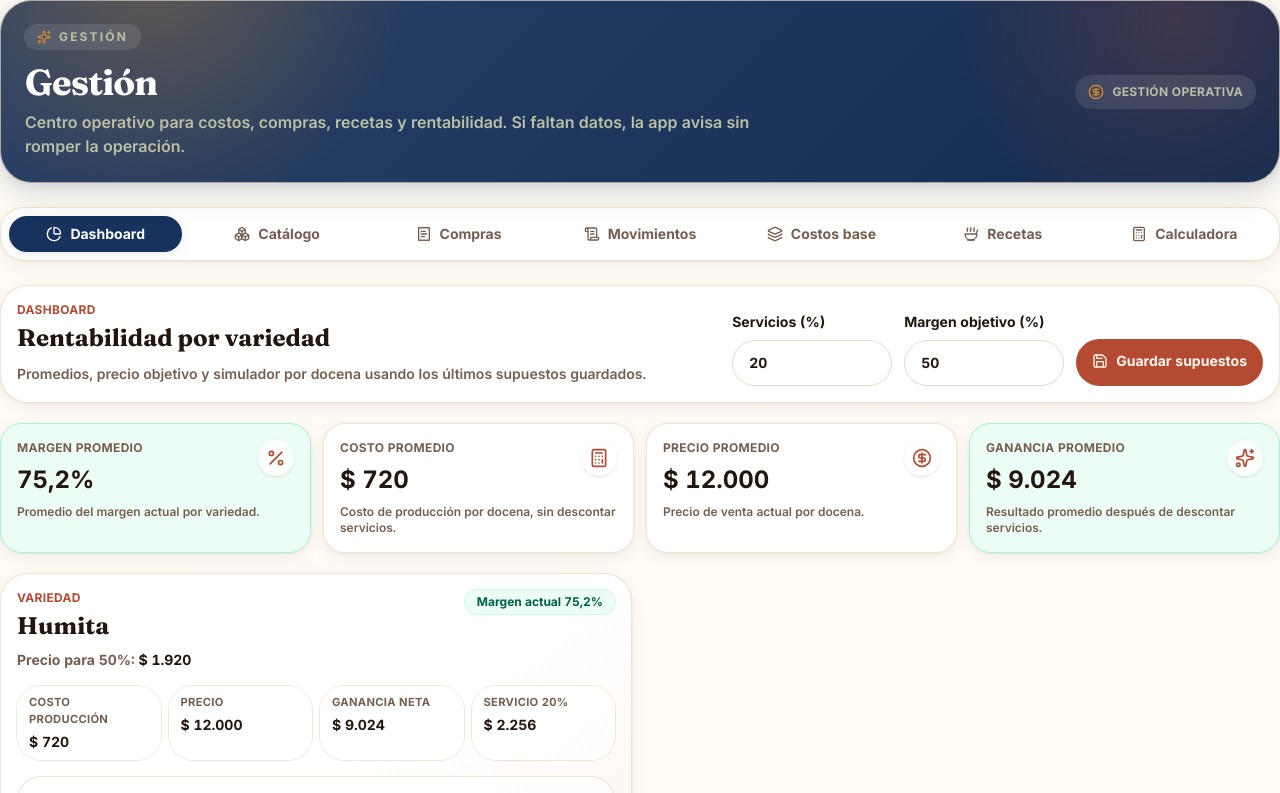
Scenario: FinancePage › renders the finance workspace route without the legacy stock tab
The width and height of the screenshot is (1280, 793).
Expected: the heading "Gestión" is shown, [25,60,157,104]
Expected: the tab "Compras" is shown, [372,216,545,252]
What coordinates should you click on to do the following:
click the tab "Catálogo"
I would click on:
 (277, 234)
Its box is [190,216,364,252].
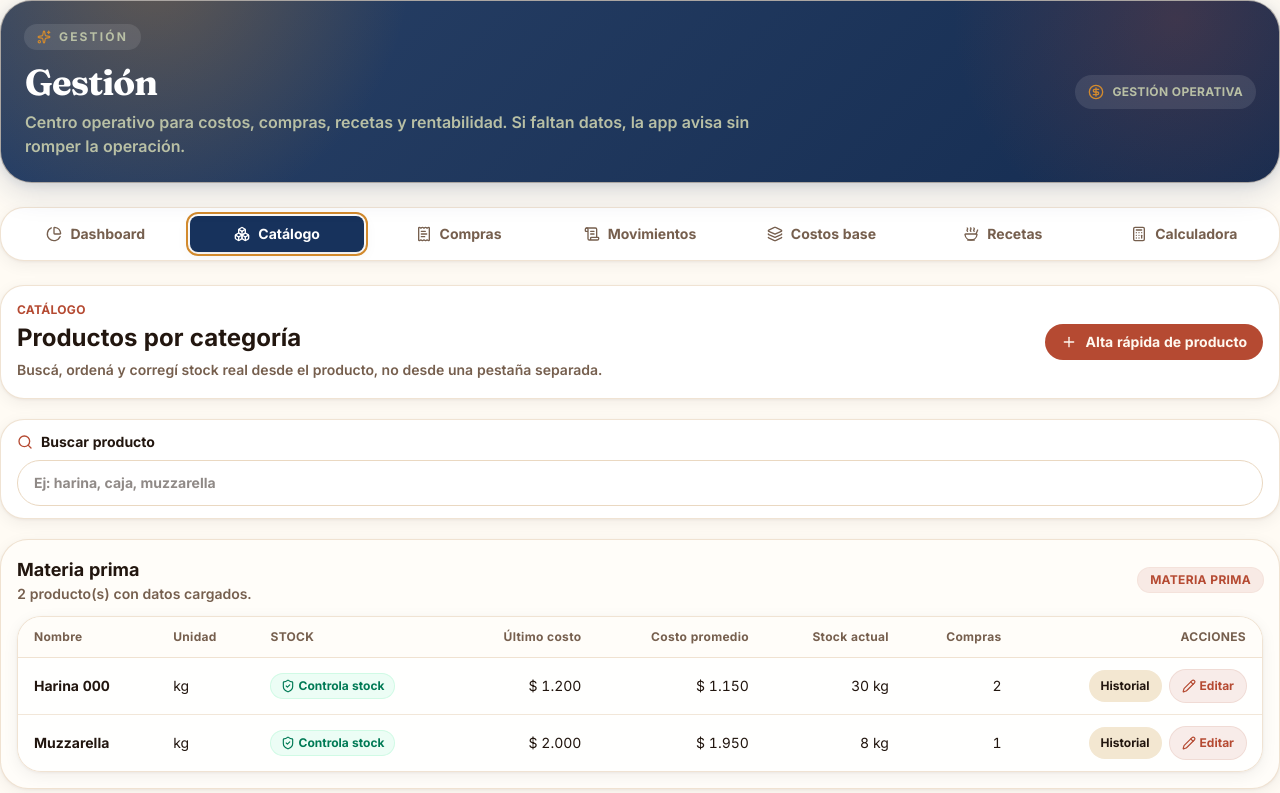
Expected: the button "Harina 000" is shown, [34,676,110,696]
Expected: the button "Último costo" is shown, [504,629,581,645]
